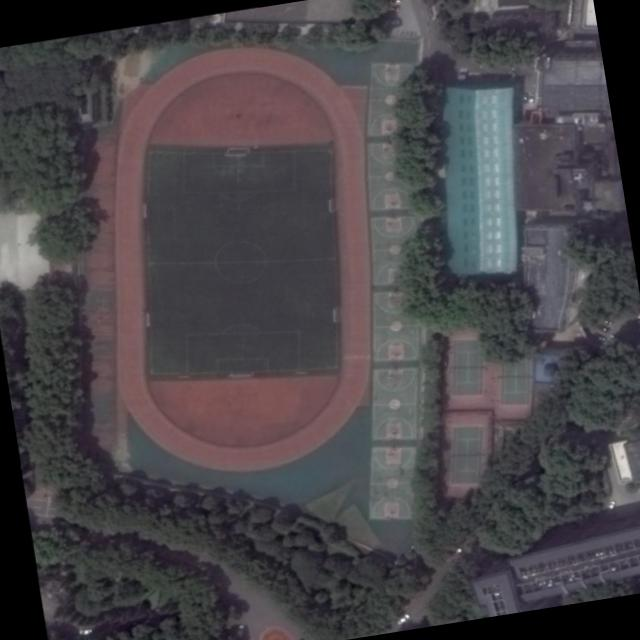small-vehicle: (396, 612, 410, 625), (607, 499, 615, 510), (78, 629, 91, 635)
